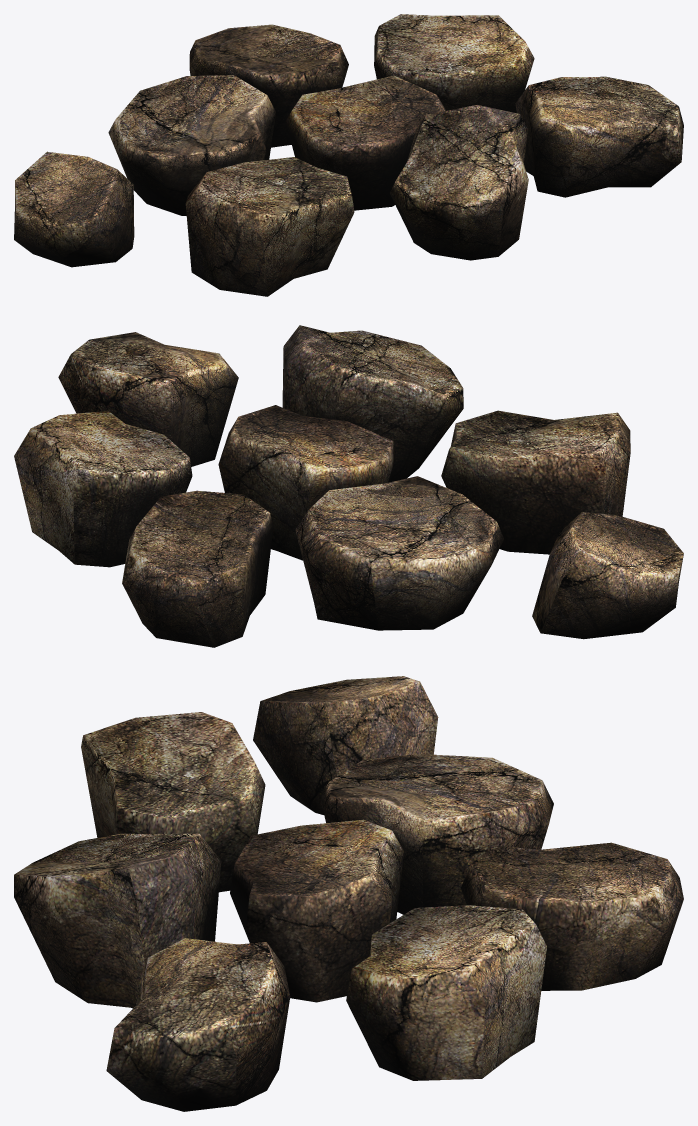
The model's file is rock_006.obj.
The picture shows the model from 3 angles, top to bottom: view 1: azimuth 30°, elevation 25°; view 2: azimuth 150°, elevation 25°; view 3: azimuth 270°, elevation 25°; orthographic projection. The views are drawn at different scales.
Parts seen in each view (by area): view 1: rock_006 rock_006; view 2: rock_006 rock_006; view 3: rock_006 rock_006.
Boxes of the visible parts, x1=… form: rock_006 rock_006: x1=14, y1=14, x2=683, y2=296; rock_006 rock_006: x1=14, y1=325, x2=683, y2=647; rock_006 rock_006: x1=14, y1=676, x2=683, y2=1111.
Bounding box in the file's own units: 751 × 133 × 559.
1 material, 1 textured.
